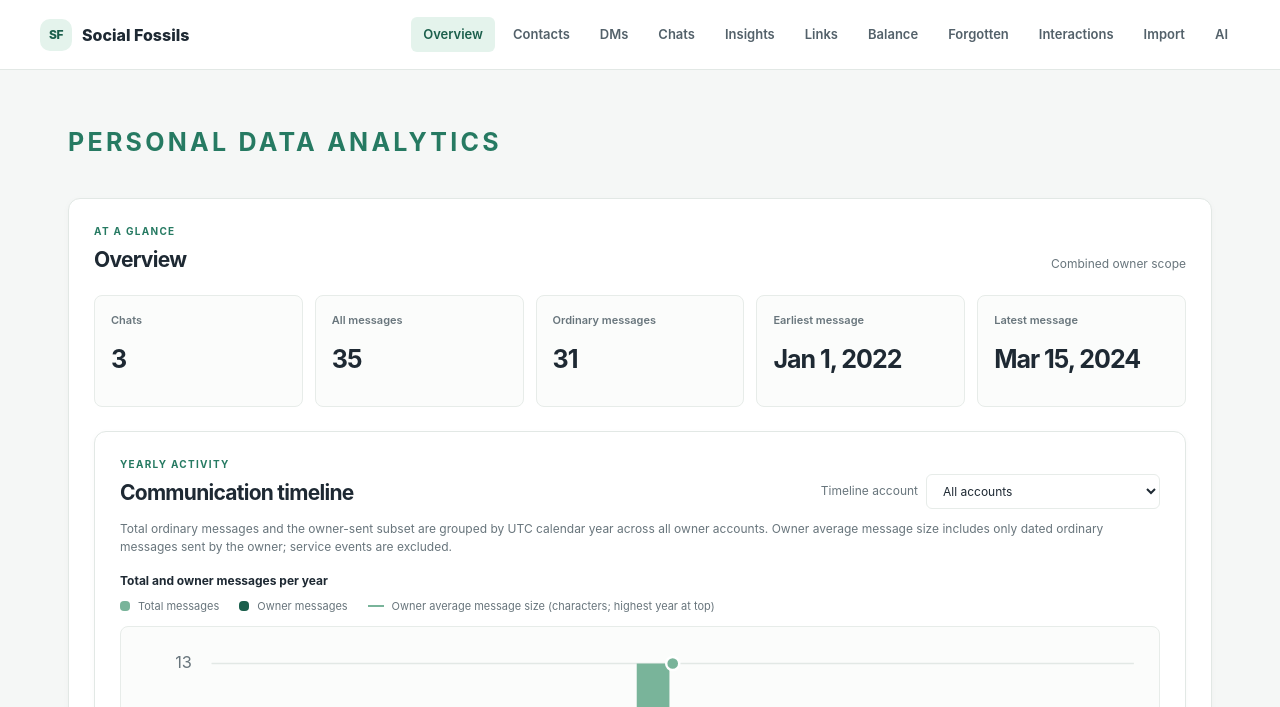
Test: dashboard › shows the dashboard content, aggregate metrics, and sender link states
Later steps or results of the test are not shown.
expect the heading "PERSONAL DATA ANALYTICS" is shown: met, box 68,124 -> 502,162
expect the navigation bar named "Dashboard sections" is shown: met, box 411,17 -> 1240,52
Click the tab "Chats". click: (677, 35)
box: 646,17 -> 707,52
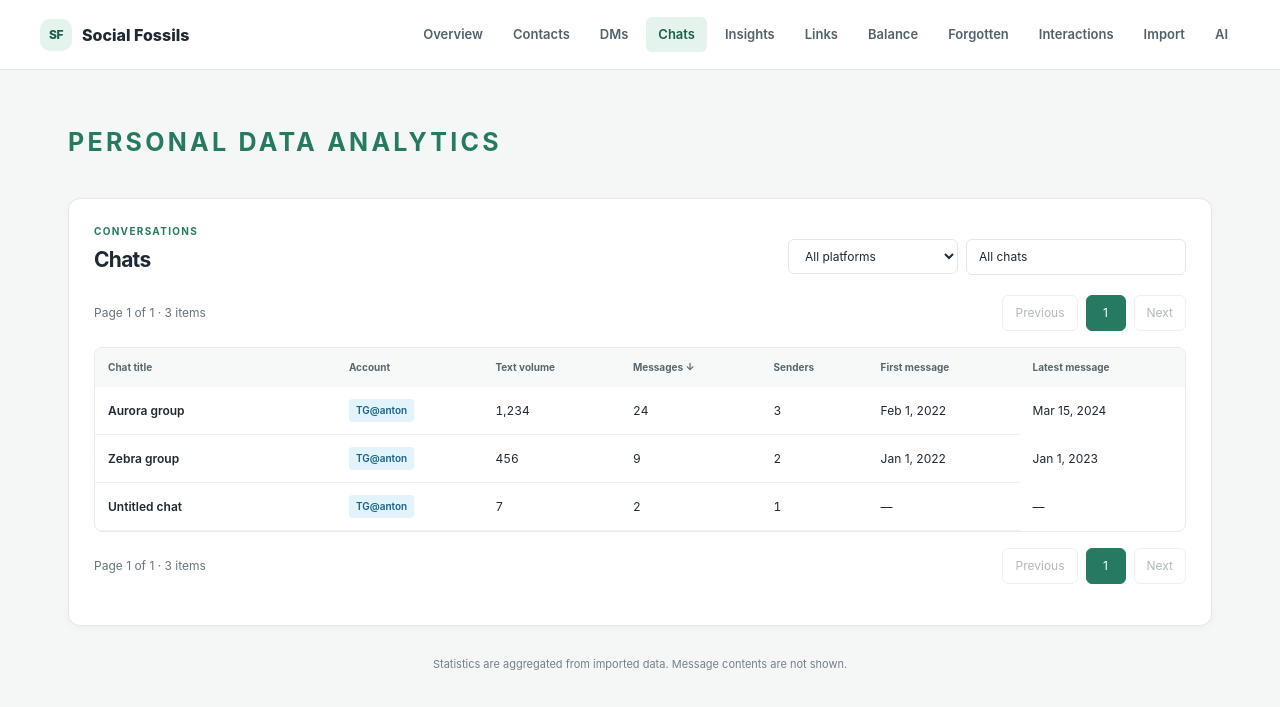
expect the panel "Chats" is shown: met, box 68,198 -> 1212,626
expect the heading "Chats" is shown: met, box 94,246 -> 150,272
expect the column heading "Account" is shown: met, box 336,348 -> 482,387
Click the tab "Contacts". click: (541, 35)
box: 501,17 -> 582,52
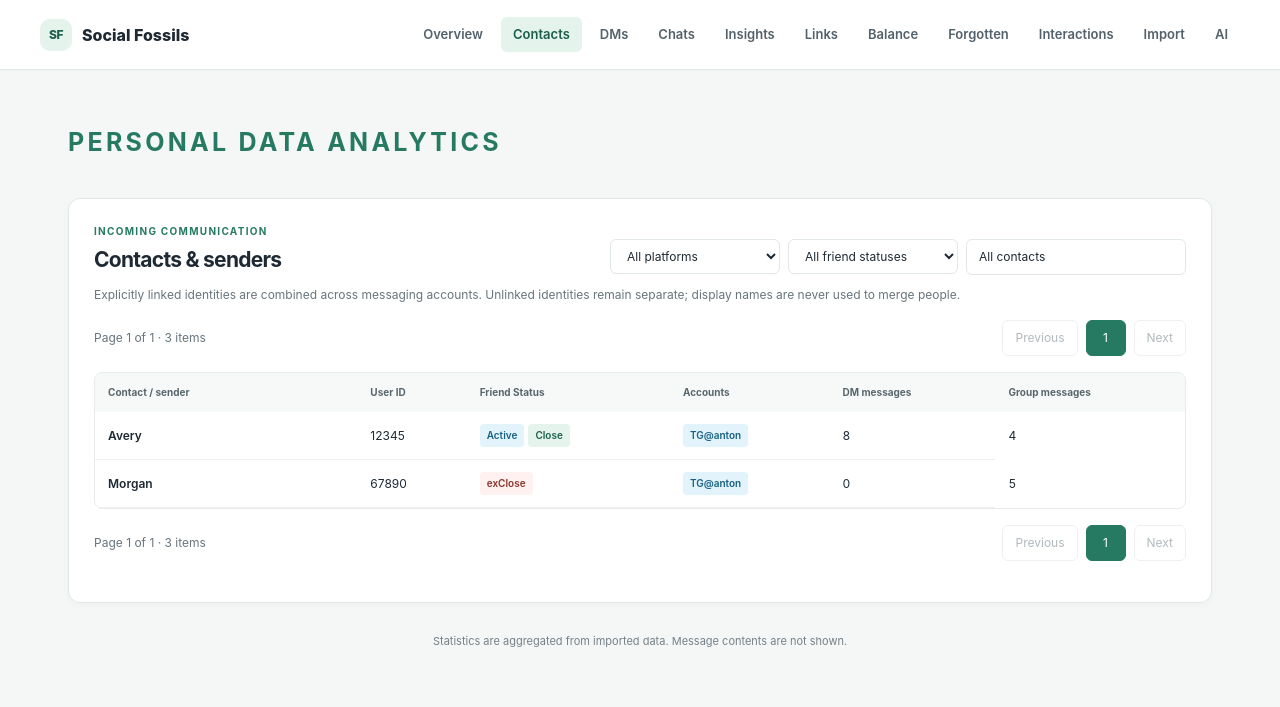
expect the panel "Contacts" is shown: met, box 68,198 -> 1212,603
expect the column heading "Accounts" is shown: met, box 670,373 -> 830,412
expect the column heading "User ID" is shown: met, box 357,373 -> 467,412
Click the tab "Balance". click: (893, 35)
box: 856,17 -> 930,52
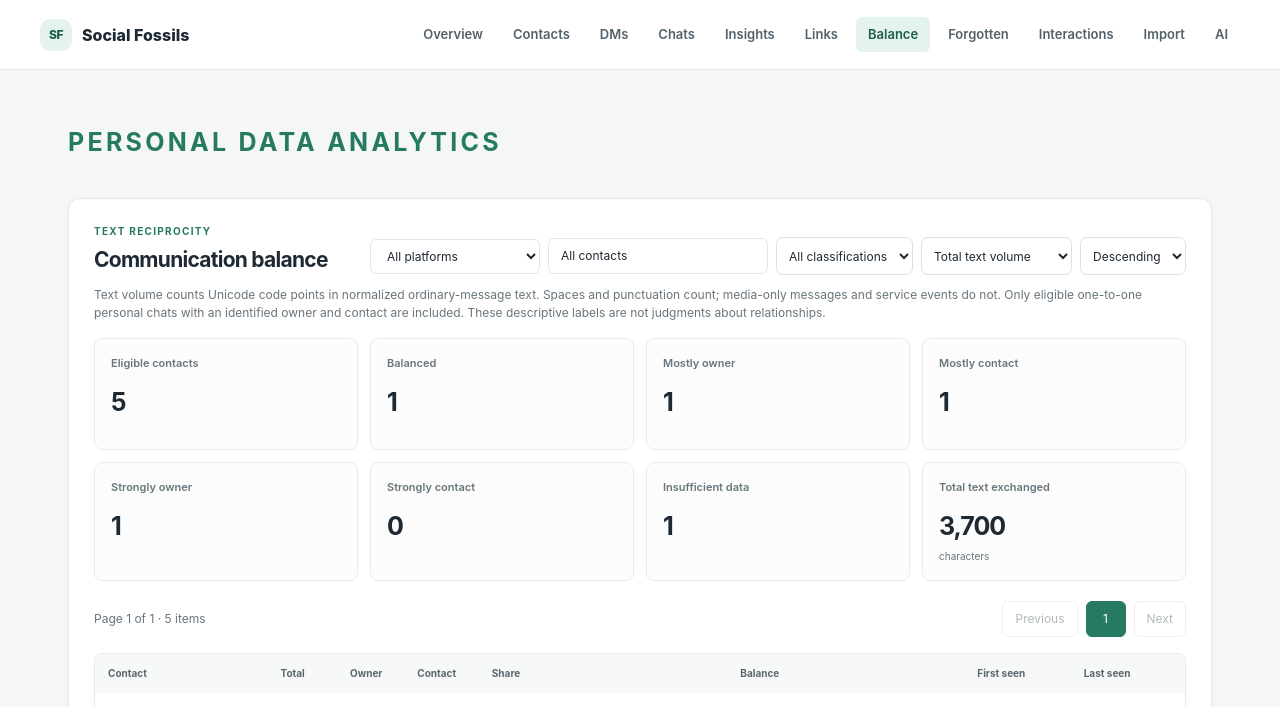
expect the heading "Communication balance" is shown: met, box 94,244 -> 328,275
